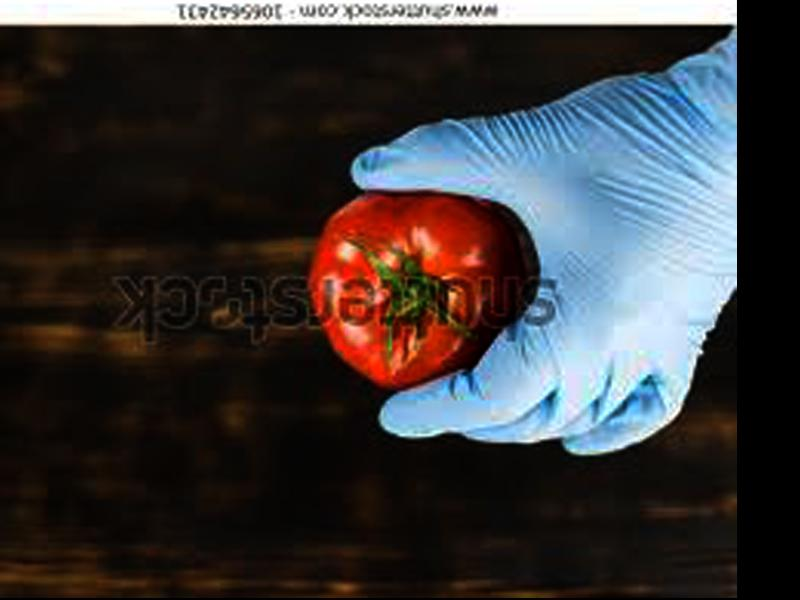Tomato: (305, 189, 527, 390)
